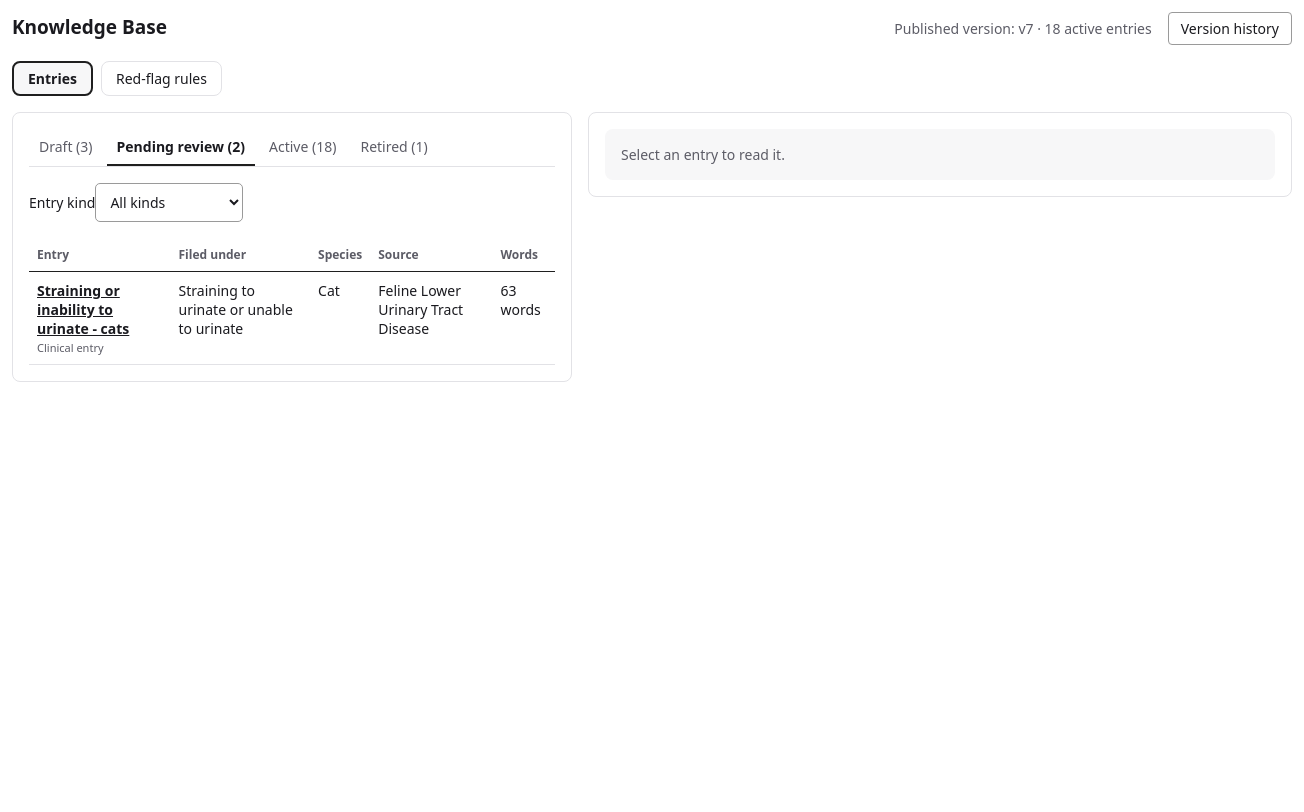
Test: approving and indexing (FR-53) › approves without claiming the entry is live
The image size is (1304, 812).
Click the button "Straining or inability to urinate - cats".
click(100, 310)  # box [37,281,162,338]
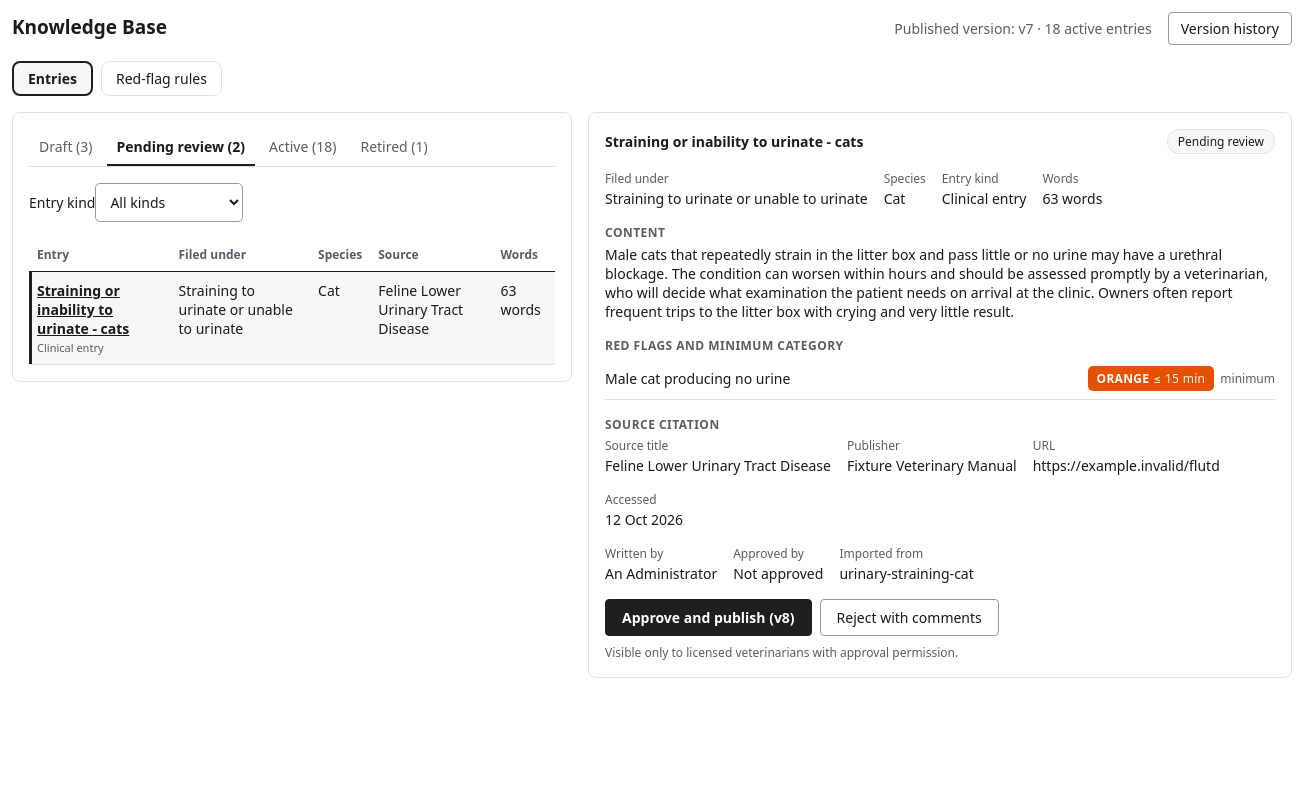
Click the button "Approve and publish (v8)".
click(708, 618)  # box [605,599,812,636]
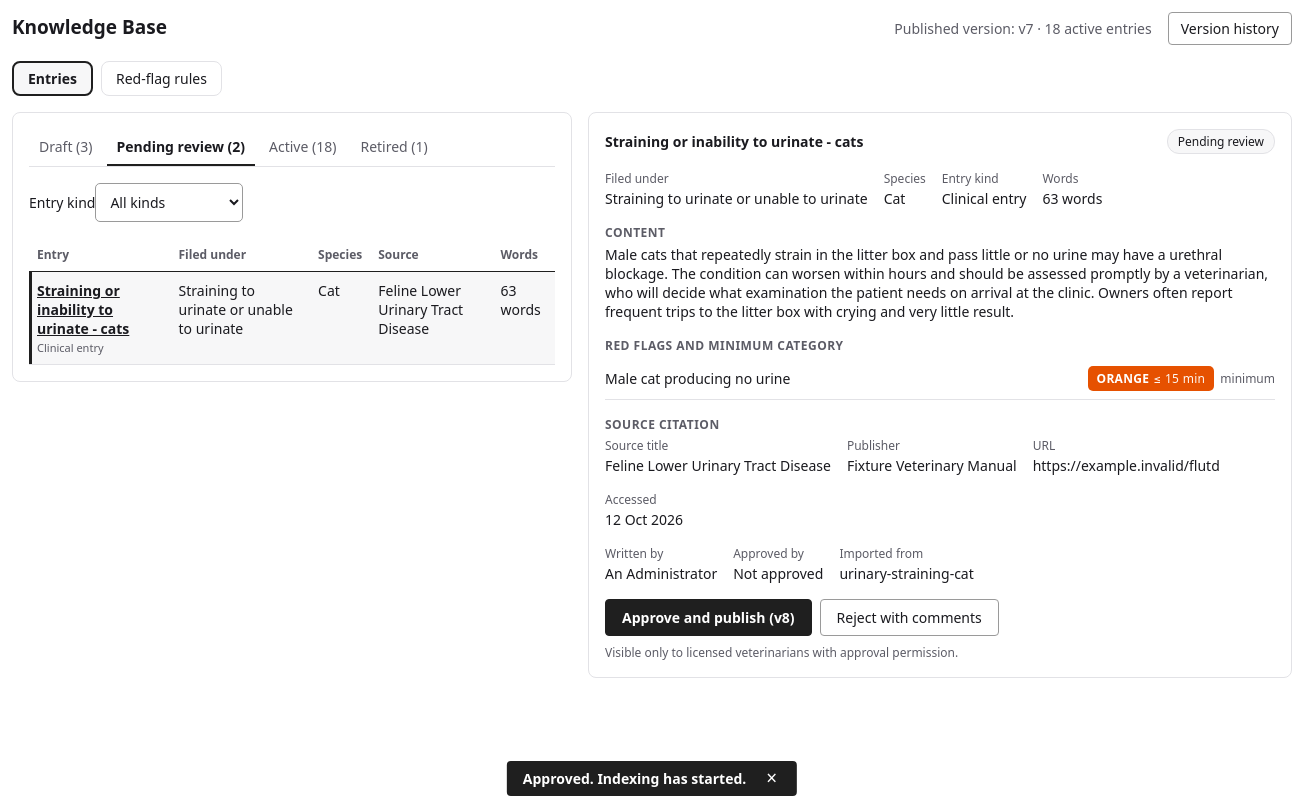
expect the text "Approved. Indexing has started." is shown: met, box [523,769,746,788]
